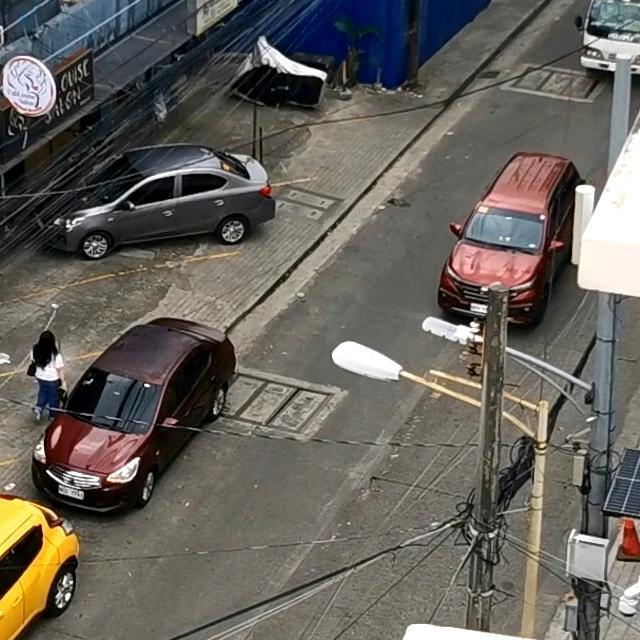Truck: (563, 0, 640, 96)
